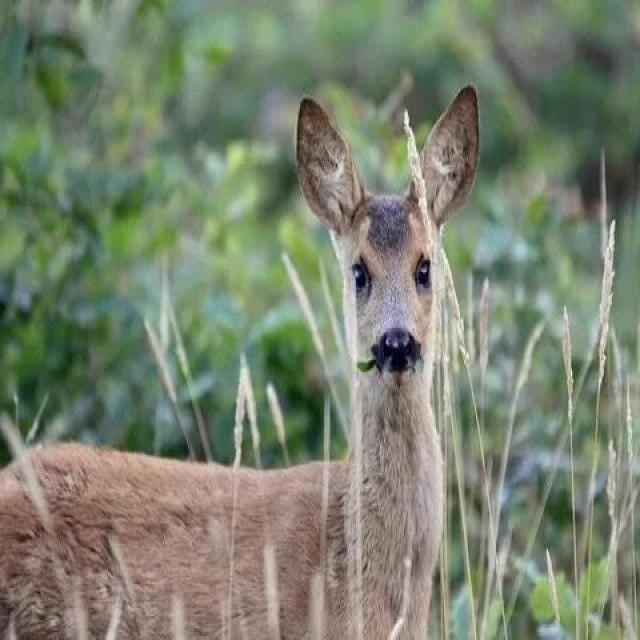deer: (46, 112, 583, 640)
